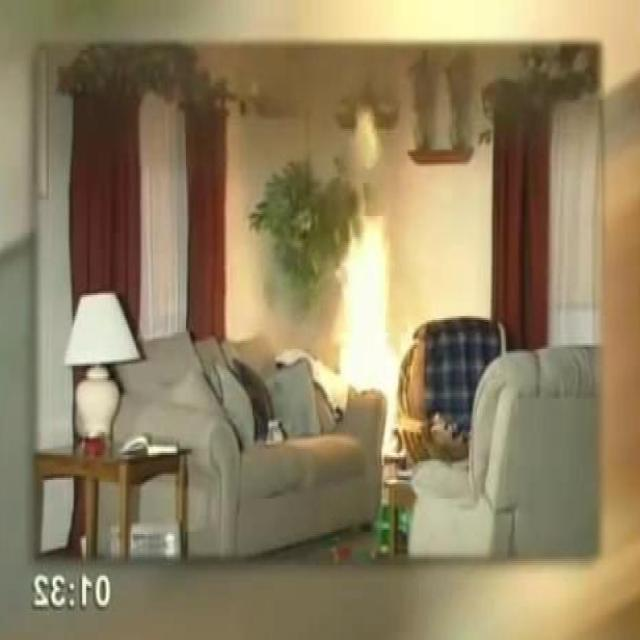smoke: (328, 107, 402, 464)
